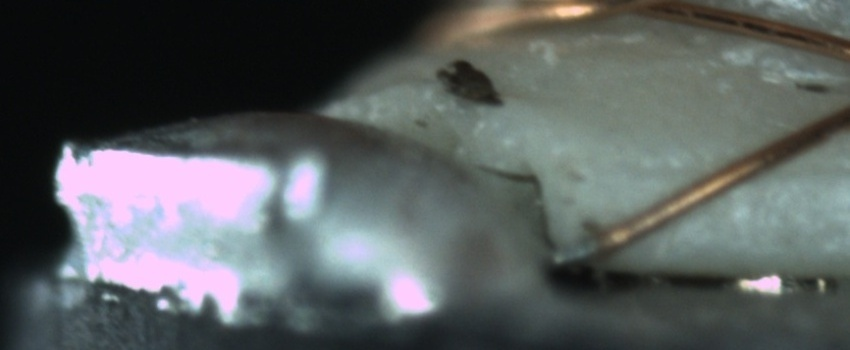DL: (611, 133, 850, 204)
TS: (550, 235, 600, 267)
